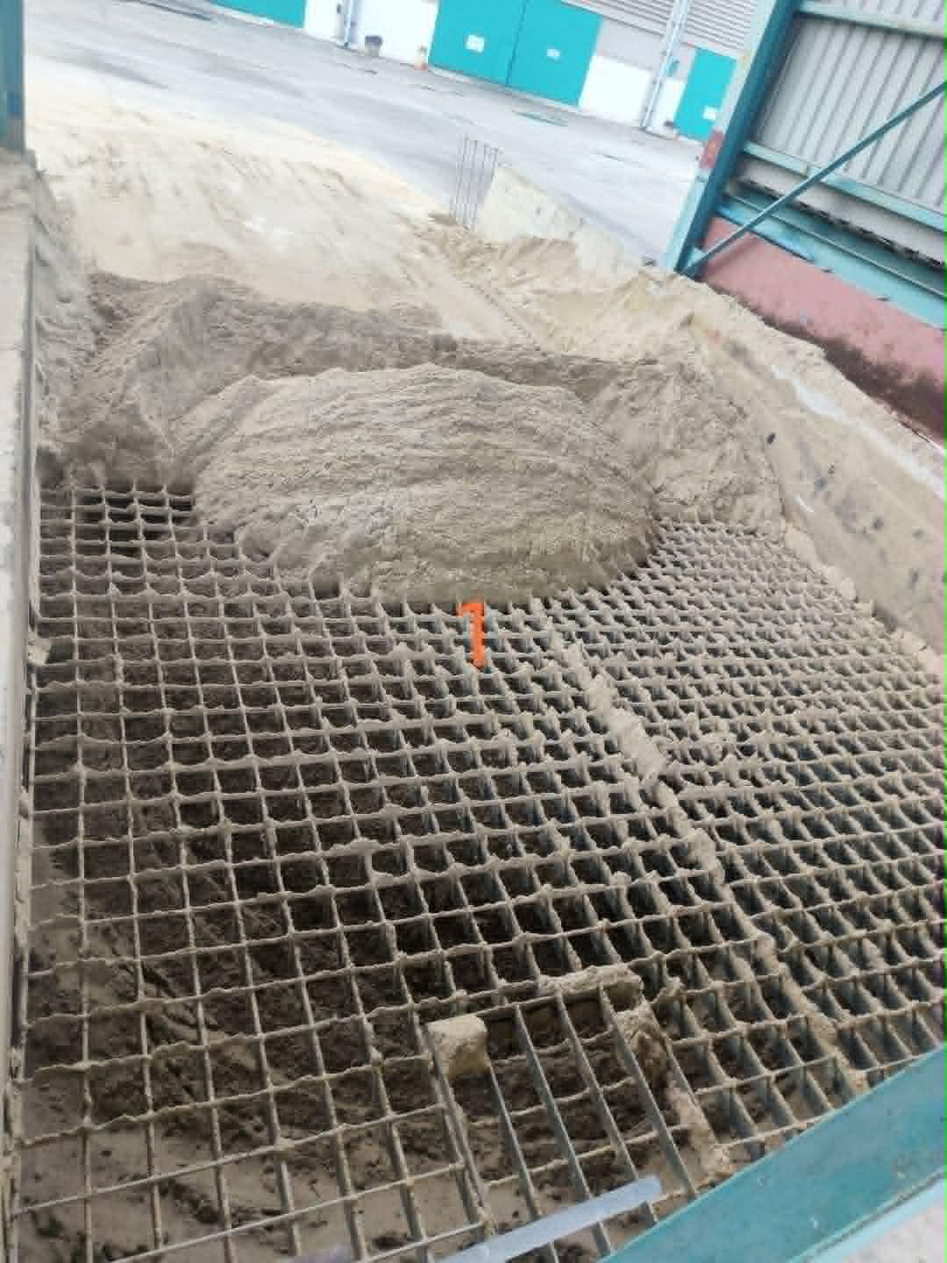gravel: (39, 255, 873, 612), (553, 632, 718, 874), (429, 1017, 486, 1078), (895, 632, 942, 677)
